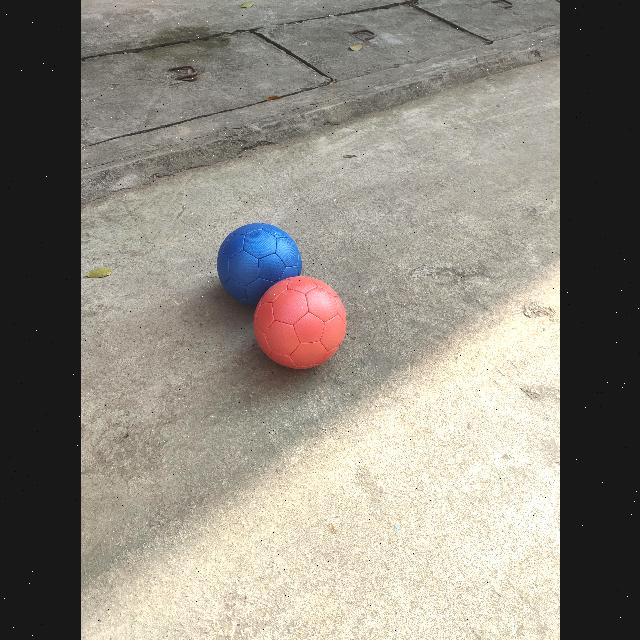B: (216, 223, 301, 306)
R: (254, 276, 345, 369)
